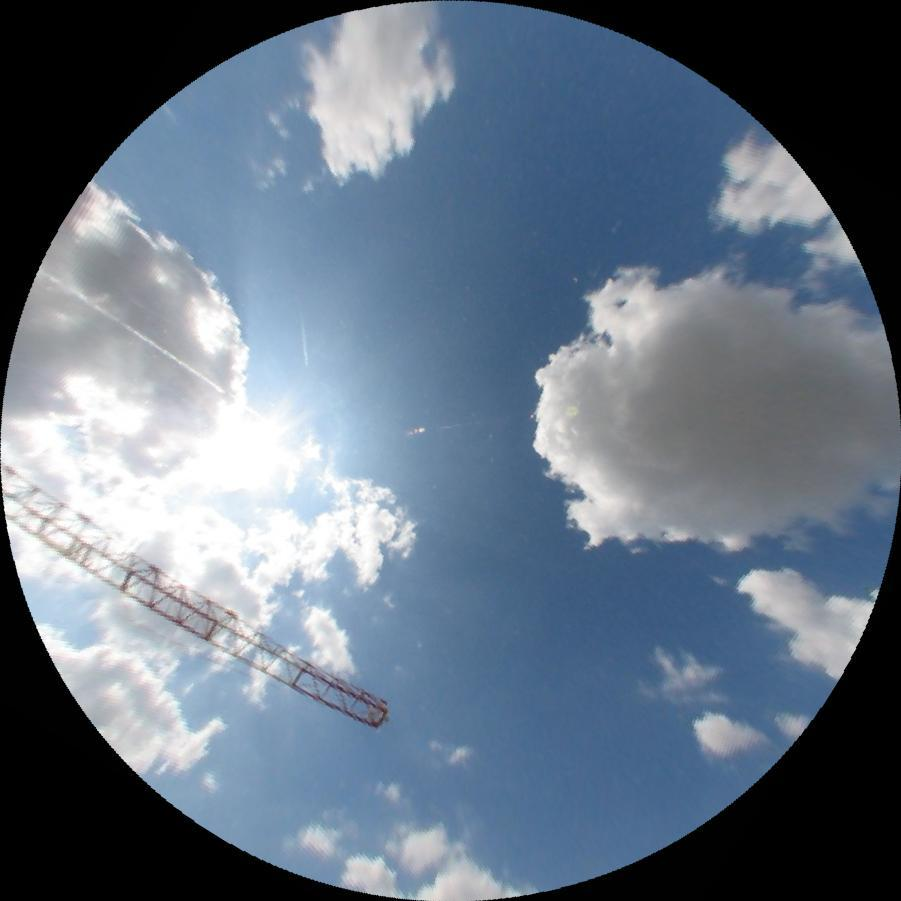contrail young: (299, 316, 309, 367)
parasite: (37, 267, 279, 428)
sun: (191, 397, 296, 502)
